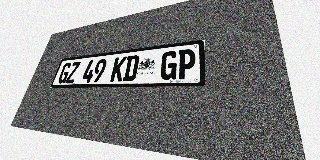4: (81, 60, 97, 83)
9: (91, 58, 108, 82)
D: (122, 55, 140, 81)
G: (159, 50, 178, 80), (57, 62, 72, 84)
K: (110, 56, 127, 82)
P: (176, 48, 196, 79)
Z: (65, 61, 81, 83)
